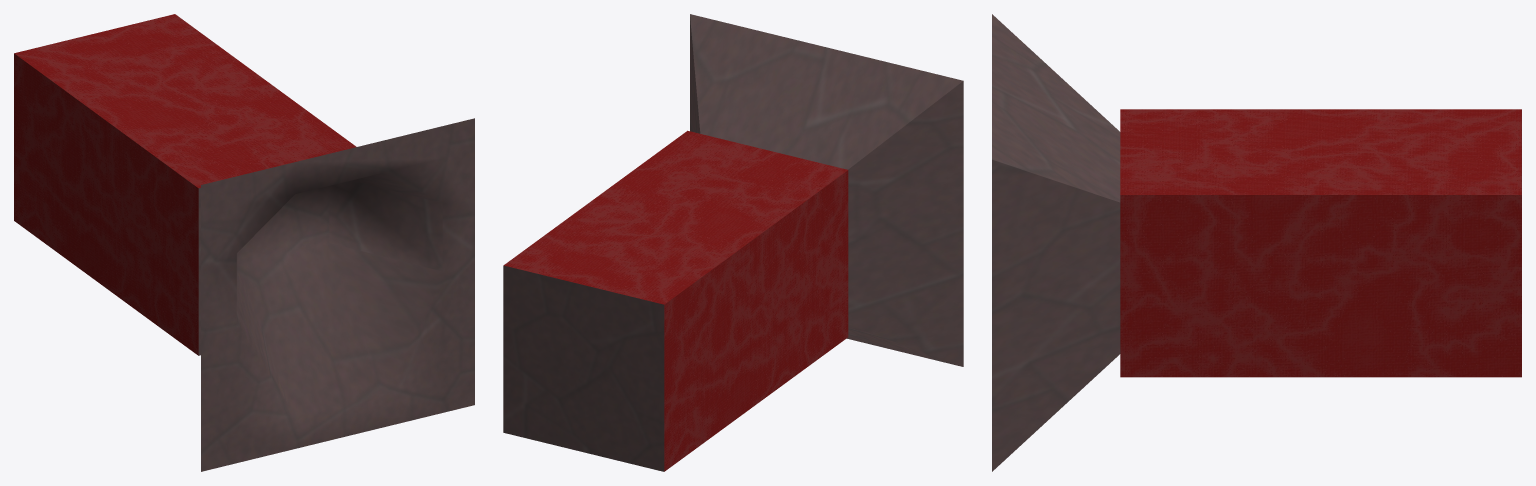
File: player.obj
3 renders of one model, left to right at view 1: azimuth 30°, elevation 25°; view 2: azimuth 150°, elevation 25°; view 3: azimuth 270°, elevation 25°, orthographic. The views are drawn at different scales.
Parts seen in each view (by area): view 1: polySurface1; view 2: polySurface1; view 3: polySurface1.
Part boxes in pixels (x1,y1,x2,y2): polySurface1: (14,14,474,471); polySurface1: (503,14,963,471); polySurface1: (992,14,1521,471).
Size of the model in its own units: 1.38 by 1.38 by 2.11.
1 material, 1 textured.
